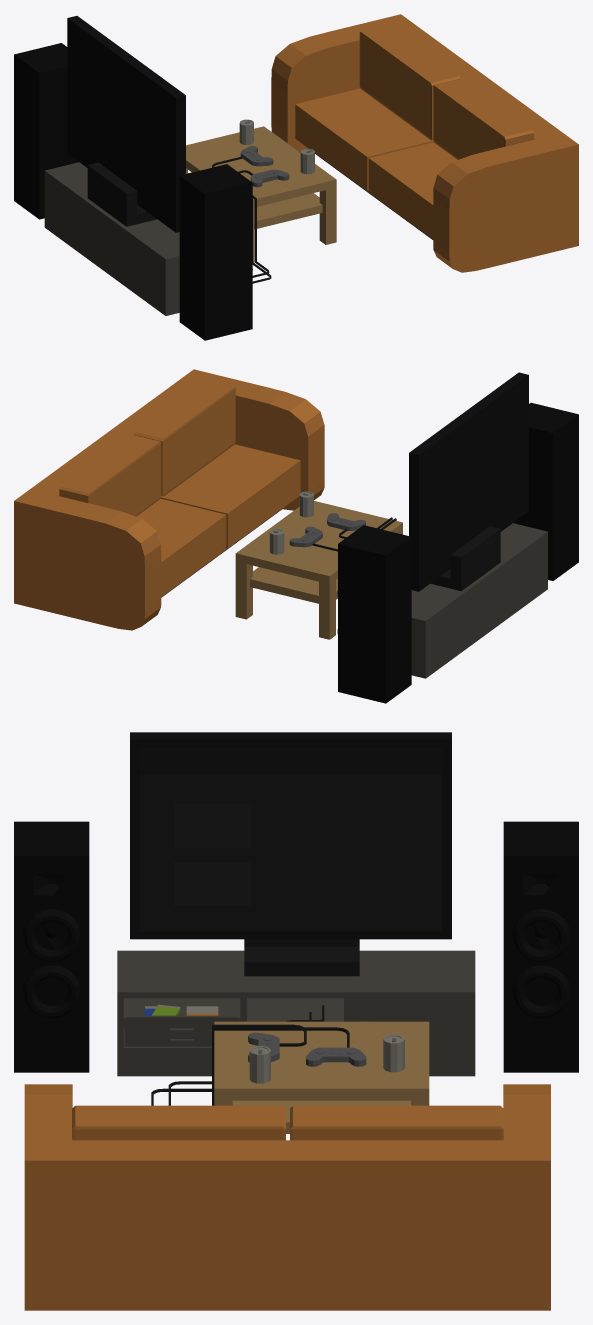
Rendered from Sala.fbx.
3 renders of one model, top to bottom at view 1: azimuth 30°, elevation 25°; view 2: azimuth 150°, elevation 25°; view 3: azimuth 270°, elevation 25°, orthographic. The views are drawn at different scales.
Parts seen in each view (by area): view 1: Cube_001_Cube_002, Cube_008_Cube_019, Cube_011_Cube_025, Cube_002_Cube_003, Cube_024_Cube_040, Cube_009_Cube_024, Cube_006_Cube_016, Cube_Cube_001, Cube_012_Cube_027, Cube_007_Cube_017, Cube_004_Cube_015, Cylinder_Cylinder_001 (+2 smaller); view 2: Cube_001_Cube_002, Cube_008_Cube_019, Cube_011_Cube_025, Cube_002_Cube_003, Cube_024_Cube_040, Cube_009_Cube_024, Cube_006_Cube_016, Cube_Cube_001, Cube_012_Cube_027, Cube_004_Cube_015, Cube_007_Cube_017, Cylinder_Cylinder_001 (+1 smaller); view 3: Cube_Cube_001, Cube_011_Cube_025, Cube_008_Cube_019, Cube_001_Cube_002, Cube_009_Cube_024, Cube_024_Cube_040, Cube_006_Cube_016, Plane_003_Plane_004, Cube_012_Cube_027, Plane_001_Plane, Cube_018_Cube_035, Plane_002_Plane_003 (+8 smaller).
Part boxes in pixels (x1,y1,x2,y2): Cube_001_Cube_002: (271,14,578,272); Cube_008_Cube_019: (14,43,252,340); Cube_011_Cube_025: (67,16,185,232); Cube_002_Cube_003: (295,88,457,239); Cube_024_Cube_040: (359,25,533,159); Cube_009_Cube_024: (44,162,179,315); Cube_006_Cube_016: (186,126,336,207); Cube_Cube_001: (398,26,562,139); Cube_012_Cube_027: (87,162,156,226); Cube_007_Cube_017: (188,172,322,228); Cube_004_Cube_015: (186,168,336,262); Cylinder_Cylinder_001: (239,119,314,174); Cube_001_Cube_002: (14,369,324,630); Cube_008_Cube_019: (337,402,578,703); Cube_011_Cube_025: (409,372,528,591); Cube_002_Cube_003: (136,444,300,596); Cube_024_Cube_040: (59,380,235,516); Cube_009_Cube_024: (411,523,547,678); Cube_006_Cube_016: (235,501,402,581); Cube_Cube_001: (31,381,196,495); Cube_012_Cube_027: (431,526,500,591); Cube_004_Cube_015: (235,528,402,639); Cube_007_Cube_017: (250,567,337,603); Cylinder_Cylinder_001: (269,491,313,554); Cube_Cube_001: (72,1140,503,1310); Cube_011_Cube_025: (130,732,451,939); Cube_008_Cube_019: (14,821,578,1072); Cube_001_Cube_002: (24,1084,550,1310); Cube_009_Cube_024: (117,950,475,1076); Cube_024_Cube_040: (72,1105,503,1140); Cube_006_Cube_016: (214,1021,429,1100); Plane_003_Plane_004: (139,747,442,774); Cube_012_Cube_027: (244,939,359,976); Plane_001_Plane: (174,804,251,848); Cube_018_Cube_035: (124,998,239,1035); Plane_002_Plane_003: (174,862,251,905).
Size of the model in its own units: 4.43 by 2.35 by 3.83.
